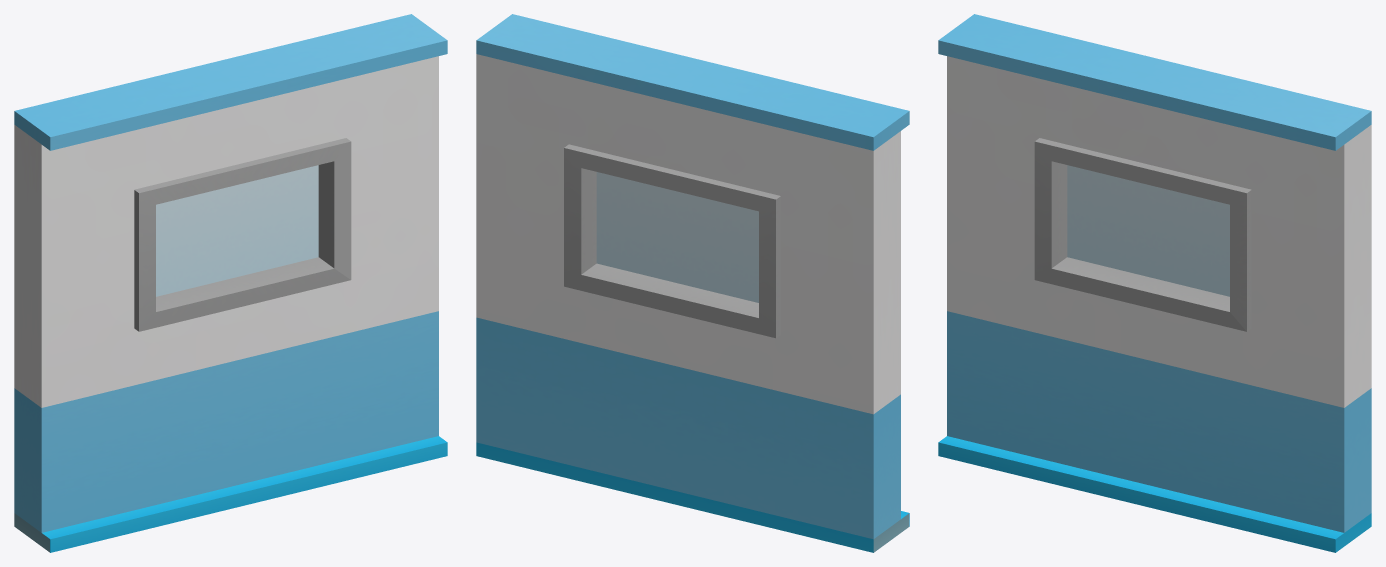
The model's file is wall_window.dae.
3 views of the same model, side by side, from view 1: azimuth 30°, elevation 25°; view 2: azimuth 150°, elevation 25°; view 3: azimuth 330°, elevation 25° (orthographic).
Visible parts, largest first — view 1: wall_window; view 2: wall_window; view 3: wall_window.
Part boxes in pixels (<box>): wall_window: <box>14,14,447,552</box>; wall_window: <box>476,14,909,552</box>; wall_window: <box>938,14,1371,552</box>.
Bounding box in the file's own units: 2 × 0.3568 × 2.
